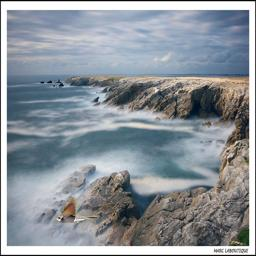Cuckoo: (54, 197, 99, 223)
